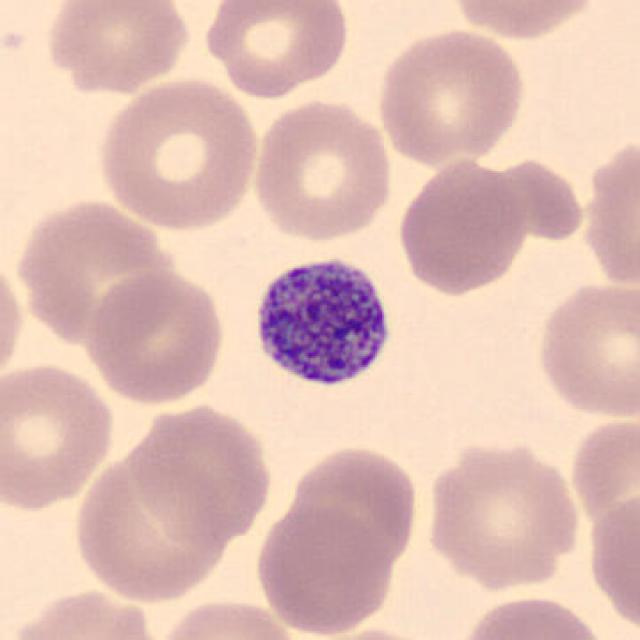Platelets: (242, 245, 402, 402)
RBC: (93, 74, 263, 233), (421, 436, 585, 590), (76, 450, 231, 600), (18, 200, 179, 342), (373, 23, 530, 167), (124, 398, 276, 545), (249, 95, 396, 244), (81, 266, 228, 407), (251, 499, 398, 638), (394, 155, 532, 298), (0, 358, 119, 515), (284, 441, 422, 575), (199, 0, 353, 100), (532, 277, 638, 421), (39, 0, 194, 95), (569, 135, 640, 293), (583, 485, 640, 638), (7, 585, 164, 640), (451, 590, 613, 640), (153, 596, 306, 640), (446, 0, 604, 42), (0, 245, 28, 389), (288, 624, 457, 640)
